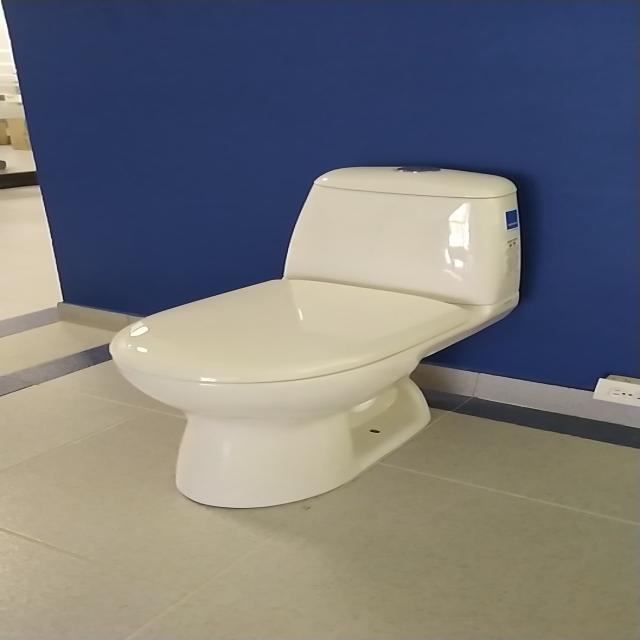toilet: (98, 162, 536, 515)
